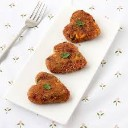cutlet: (43, 40, 87, 72), (26, 73, 69, 103), (63, 9, 102, 40)
